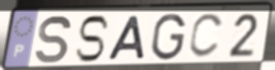2: (229, 12, 261, 59)
A: (106, 15, 147, 62)
C: (187, 12, 226, 61)
G: (149, 12, 188, 62)
S: (34, 14, 74, 66), (73, 14, 111, 64)
